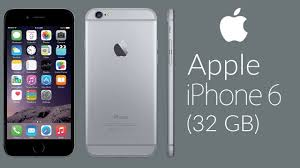iphone: (1, 7, 77, 161), (84, 3, 159, 157)
iphone6: (82, 3, 157, 157), (1, 4, 75, 158)
